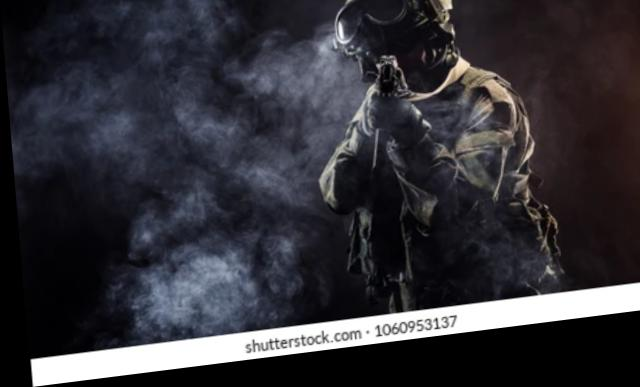other: (303, 0, 551, 328)
